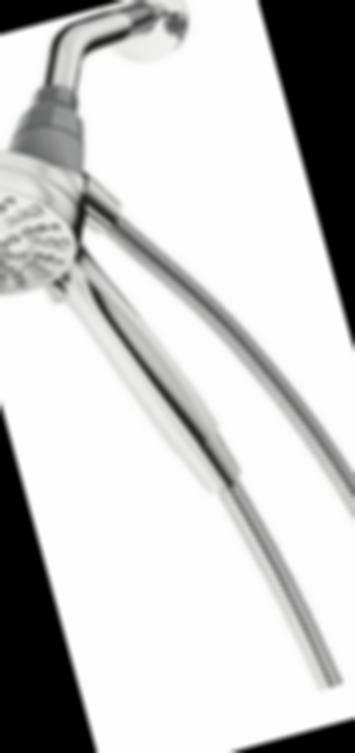Ducha: (0, 0, 355, 725)
